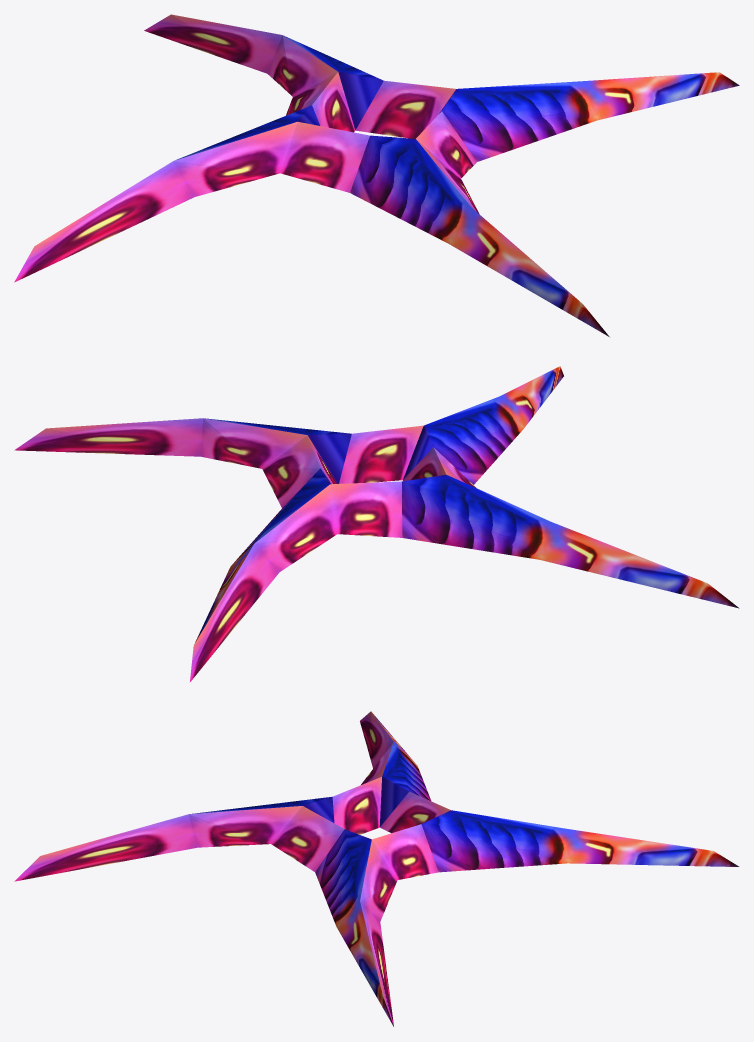
File: ufo-15.fbx
3 views of the same model, one above another, from view 1: azimuth 30°, elevation 25°; view 2: azimuth 150°, elevation 25°; view 3: azimuth 270°, elevation 25° (orthographic). The views are drawn at different scales.
Visible parts, largest first — view 1: ufo-15; view 2: ufo-15; view 3: ufo-15.
Part boxes in pixels (x1=…): ufo-15: x1=14, y1=14, x2=739, y2=336; ufo-15: x1=14, y1=366, x2=739, y2=681; ufo-15: x1=14, y1=711, x2=739, y2=1026.
Size of the model in its own units: 91.75 by 9.26 by 91.75.
